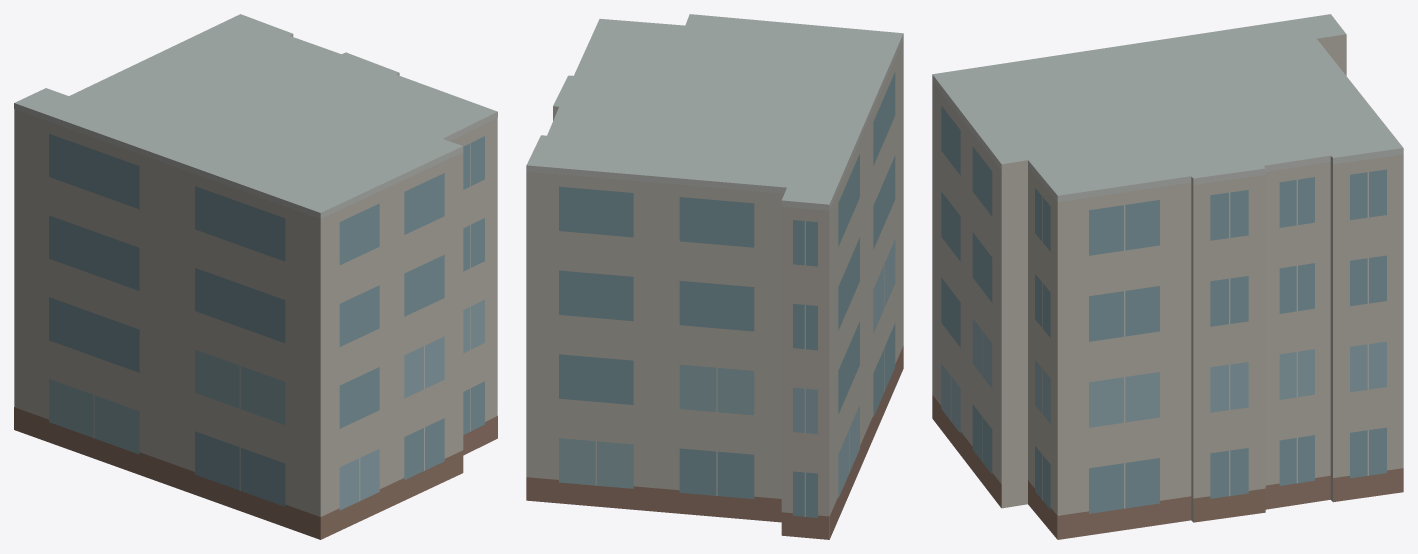
File: survey-upis-32933031.glb
The picture shows the model from 3 angles, left to right: view 1: azimuth 30°, elevation 25°; view 2: azimuth 150°, elevation 25°; view 3: azimuth 270°, elevation 25°; orthographic projection. The views are drawn at different scales.
Visible parts, largest first — view 1: survey-upis-32933031.tmp; view 2: survey-upis-32933031.tmp; view 3: survey-upis-32933031.tmp.
Part boxes in pixels (x1,y1,x2,y2): survey-upis-32933031.tmp: (14,14,497,539); survey-upis-32933031.tmp: (526,14,903,539); survey-upis-32933031.tmp: (932,14,1403,539).
Bounding box in the file's own units: 14.91 × 13.15 × 16.34.
